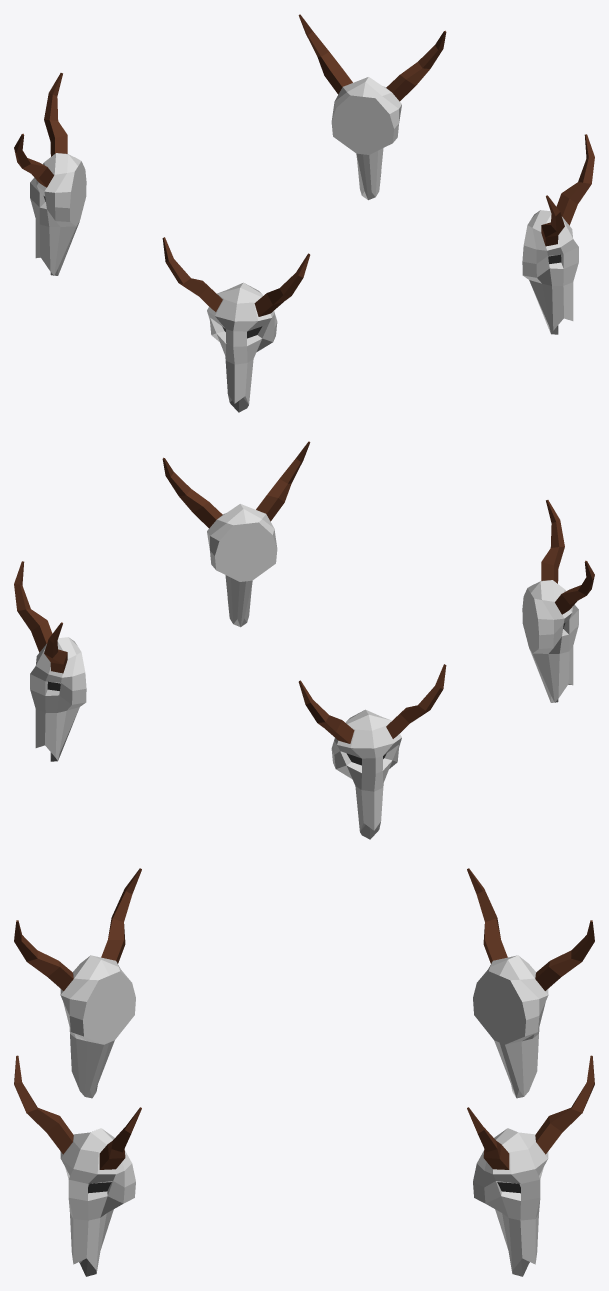
File: Kurukafa_Archer Tower.fbx
The picture shows the model from 3 angles, top to bottom: view 1: azimuth 30°, elevation 25°; view 2: azimuth 150°, elevation 25°; view 3: azimuth 270°, elevation 25°; orthographic projection. The views are drawn at different scales.
Visible parts, largest first — view 1: Cube.206; view 2: Cube.206; view 3: Cube.206.
Boxes of the visible parts, x1,y1,x2,y2 form: Cube.206: (14, 14, 594, 412); Cube.206: (14, 441, 594, 839); Cube.206: (14, 868, 594, 1276).
Bounding box in the file's own units: 8.53 × 3.26 × 8.65.
